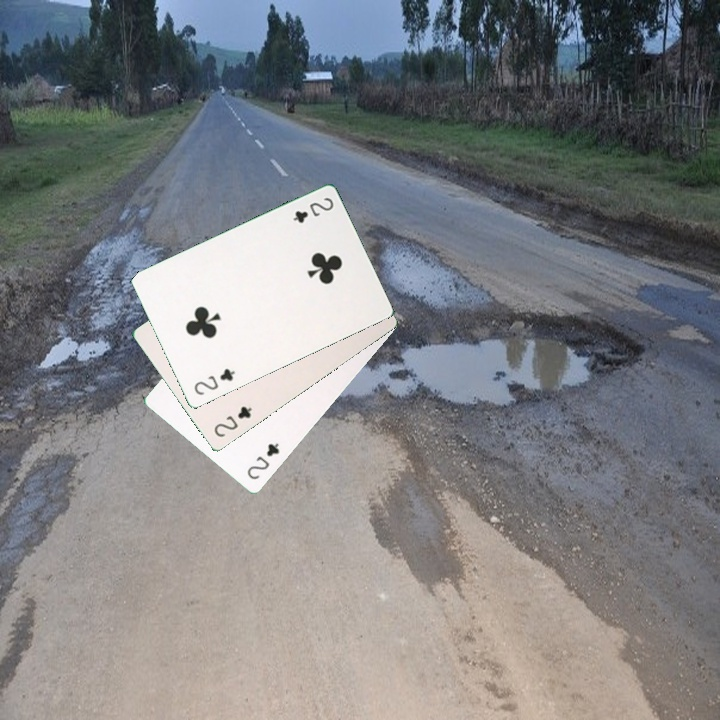2c: (210, 402, 255, 440), (243, 439, 282, 482), (190, 364, 238, 398), (289, 193, 336, 226)
